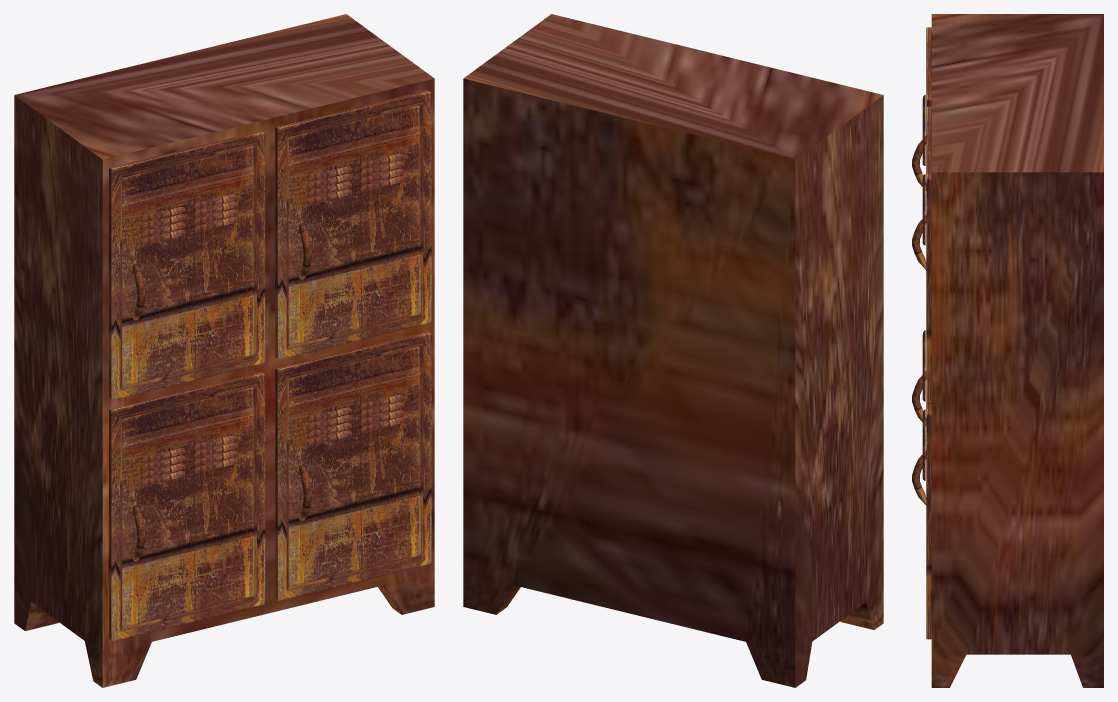
3 renders of one model, left to right at view 1: azimuth 30°, elevation 25°; view 2: azimuth 150°, elevation 25°; view 3: azimuth 270°, elevation 25°, orthographic. The views are drawn at different scales.
Visible parts, largest first — view 1: Boite, Boite007, Boite013, Boite009, Boite011, Boite008, Boite010, Boite014, Boite012; view 2: Boite; view 3: Boite, Boite014, Boite008, Boite012, Cylindre002, Cylindre005, Cylindre003, Cylindre004.
Boxes of the visible parts, x1=… form: Boite: x1=14, y1=14, x2=434, y2=687; Boite007: x1=288, y1=347, x2=420, y2=586; Boite013: x1=288, y1=105, x2=420, y2=345; Boite009: x1=122, y1=387, x2=254, y2=627; Boite011: x1=122, y1=146, x2=254, y2=386; Boite008: x1=275, y1=331, x2=431, y2=600; Boite010: x1=109, y1=372, x2=265, y2=641; Boite014: x1=275, y1=90, x2=431, y2=359; Boite012: x1=109, y1=130, x2=265, y2=400; Boite: x1=463, y1=14, x2=883, y2=687; Boite: x1=931, y1=14, x2=1103, y2=687; Boite014: x1=926, y1=106, x2=931, y2=403; Boite008: x1=926, y1=403, x2=931, y2=639; Boite012: x1=926, y1=27, x2=931, y2=106; Cylindre002: x1=912, y1=450, x2=926, y2=505; Cylindre005: x1=912, y1=215, x2=926, y2=269; Cylindre003: x1=912, y1=371, x2=926, y2=425; Cylindre004: x1=912, y1=135, x2=926, y2=190.
Size of the model in its own units: 40.58 by 61.69 by 20.78.
45 materials, 45 textured.
